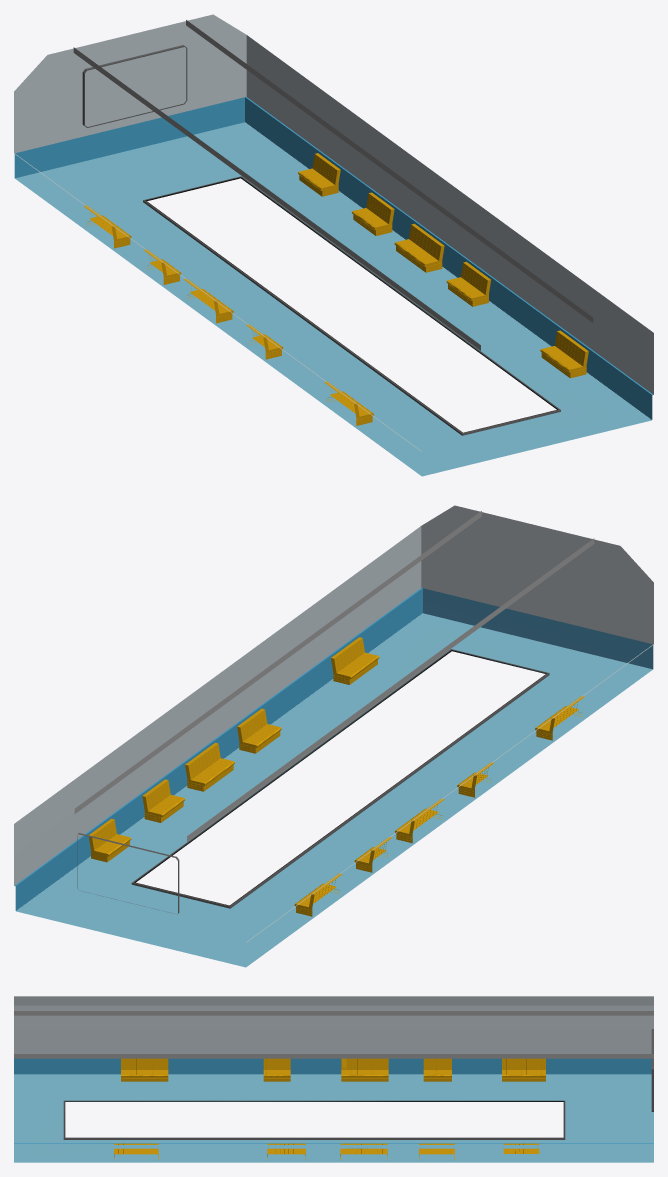
The model's file is env.glb.
3 views of the same model, one above another, from view 1: azimuth 30°, elevation 25°; view 2: azimuth 150°, elevation 25°; view 3: azimuth 270°, elevation 25° (orthographic). The views are drawn at different scales.
Parts seen in each view (by area): view 1: env; view 2: env; view 3: env.
Boxes of the visible parts, box(x1,y1,x2,y2) form: env: box(14, 14, 653, 476); env: box(14, 505, 653, 967); env: box(14, 996, 653, 1162).
Size of the model in its own units: 11.67 by 5.61 by 35.39.
